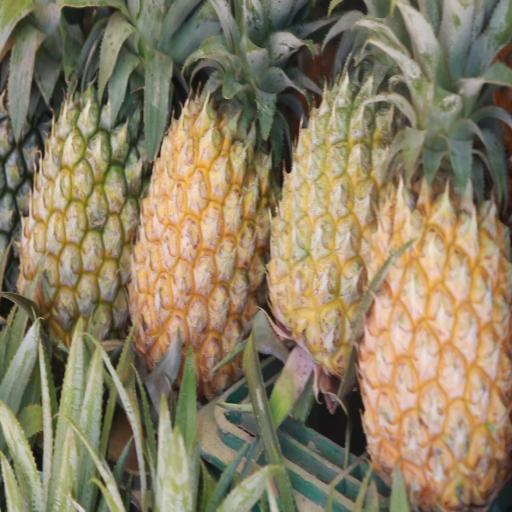------------------------------: (18, 11, 143, 364)
Pineapple - v8 v1: (354, 6, 511, 512), (268, 10, 434, 410), (127, 8, 280, 410)
